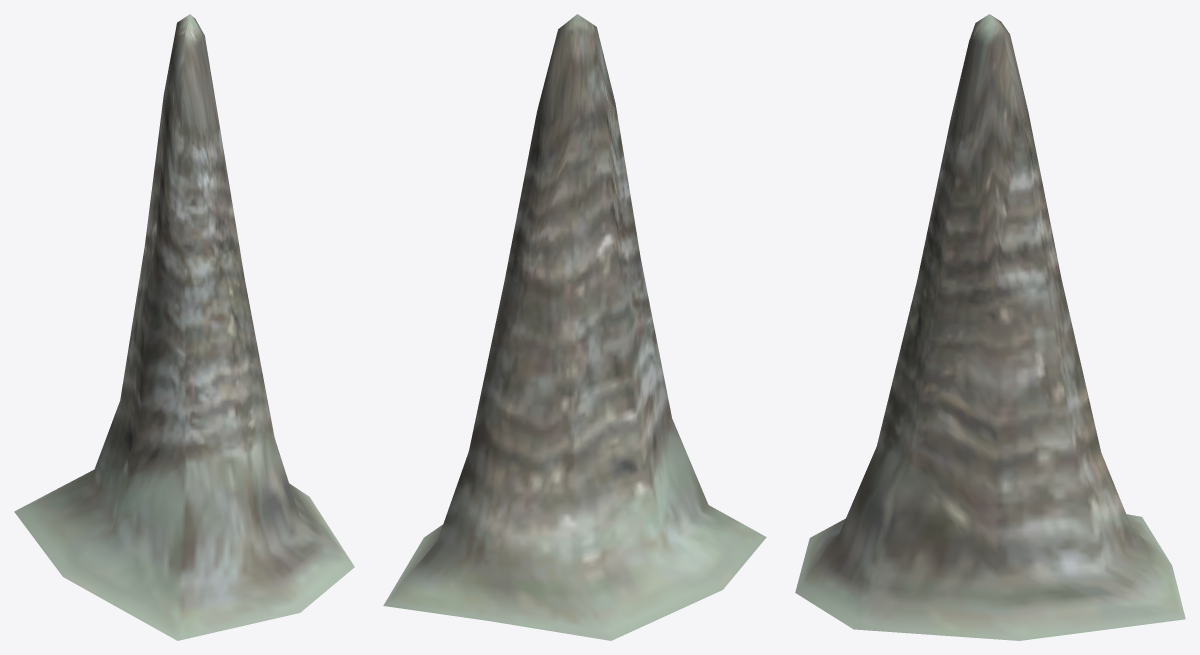
Rendered from TROLLHOLE02_PS-UPPERSTALAG20.fbx.
The picture shows the model from 3 angles, left to right: view 1: azimuth 30°, elevation 25°; view 2: azimuth 150°, elevation 25°; view 3: azimuth 270°, elevation 25°; orthographic projection. The views are drawn at different scales.
Parts seen in each view (by area): view 1: TROLLHOLE02_PS-UPPERSTALAG20; view 2: TROLLHOLE02_PS-UPPERSTALAG20; view 3: TROLLHOLE02_PS-UPPERSTALAG20.
Boxes of the visible parts, x1=… form: TROLLHOLE02_PS-UPPERSTALAG20: x1=14, y1=14, x2=354, y2=640; TROLLHOLE02_PS-UPPERSTALAG20: x1=383, y1=14, x2=766, y2=640; TROLLHOLE02_PS-UPPERSTALAG20: x1=795, y1=14, x2=1185, y2=640.
Bounding box in the file's own units: 11542 × 22351 × 13777.
1 material, 1 textured.
